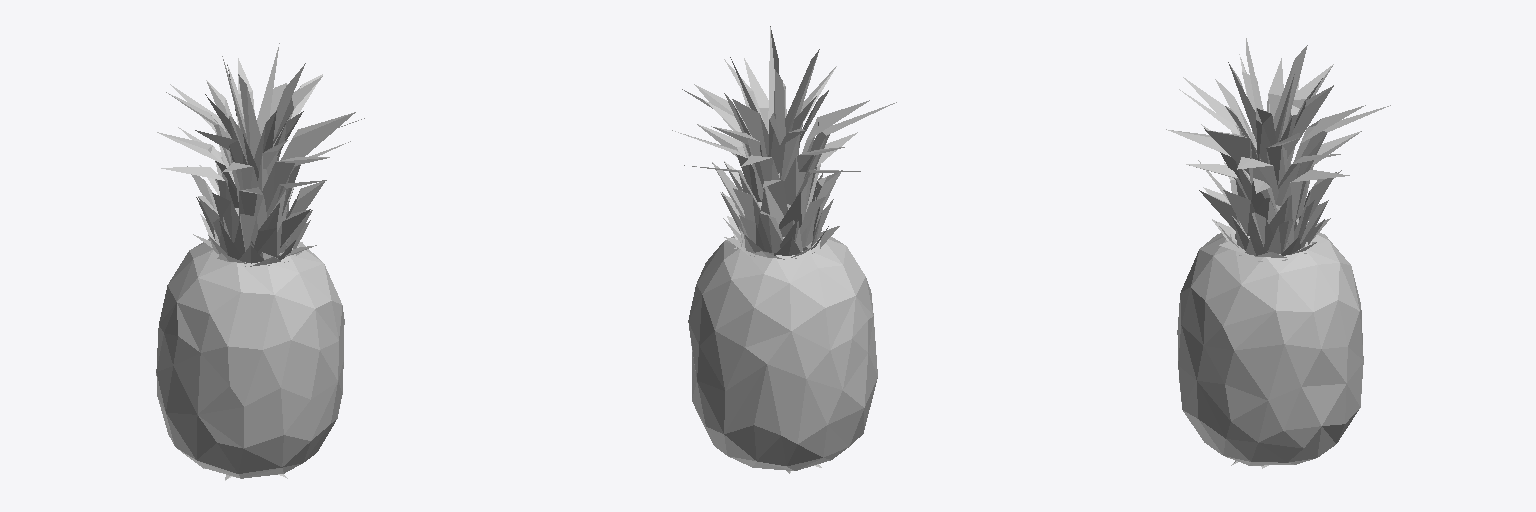
Rendered from abacaxi.obj.
3 renders of one model, left to right at view 1: azimuth 30°, elevation 25°; view 2: azimuth 150°, elevation 25°; view 3: azimuth 270°, elevation 25°, orthographic.
Visible parts, largest first — view 1: Pineapple; view 2: Pineapple; view 3: Pineapple.
Boxes of the visible parts, <box> form: Pineapple: <box>156,43,364,480</box>; Pineapple: <box>672,26,896,473</box>; Pineapple: <box>1166,38,1390,468</box>.
Size of the model in its own units: 1.8 by 3.72 by 1.86.